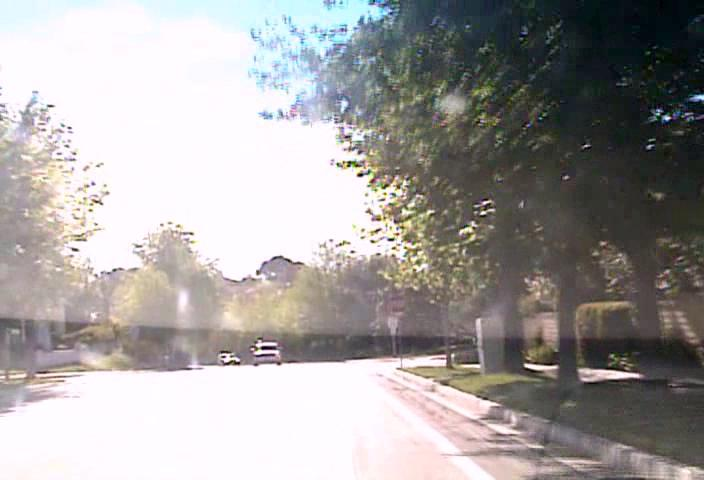stop: (388, 293, 407, 313)
